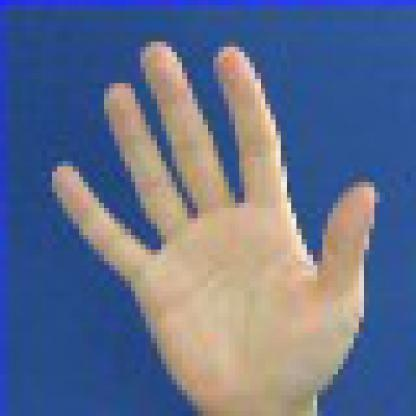five: (37, 26, 396, 411)
